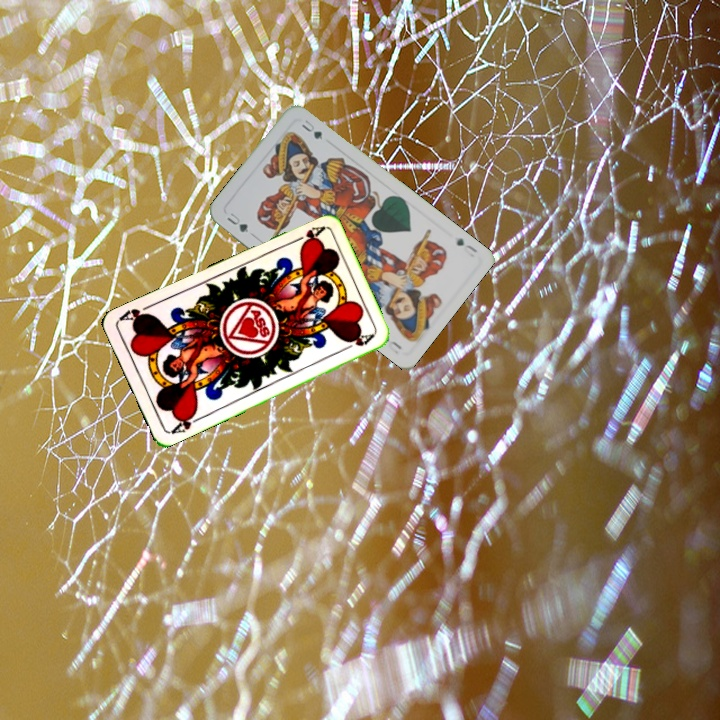GU: (223, 208, 251, 235), (452, 234, 480, 255)
HA: (167, 408, 205, 437), (287, 222, 326, 249)
